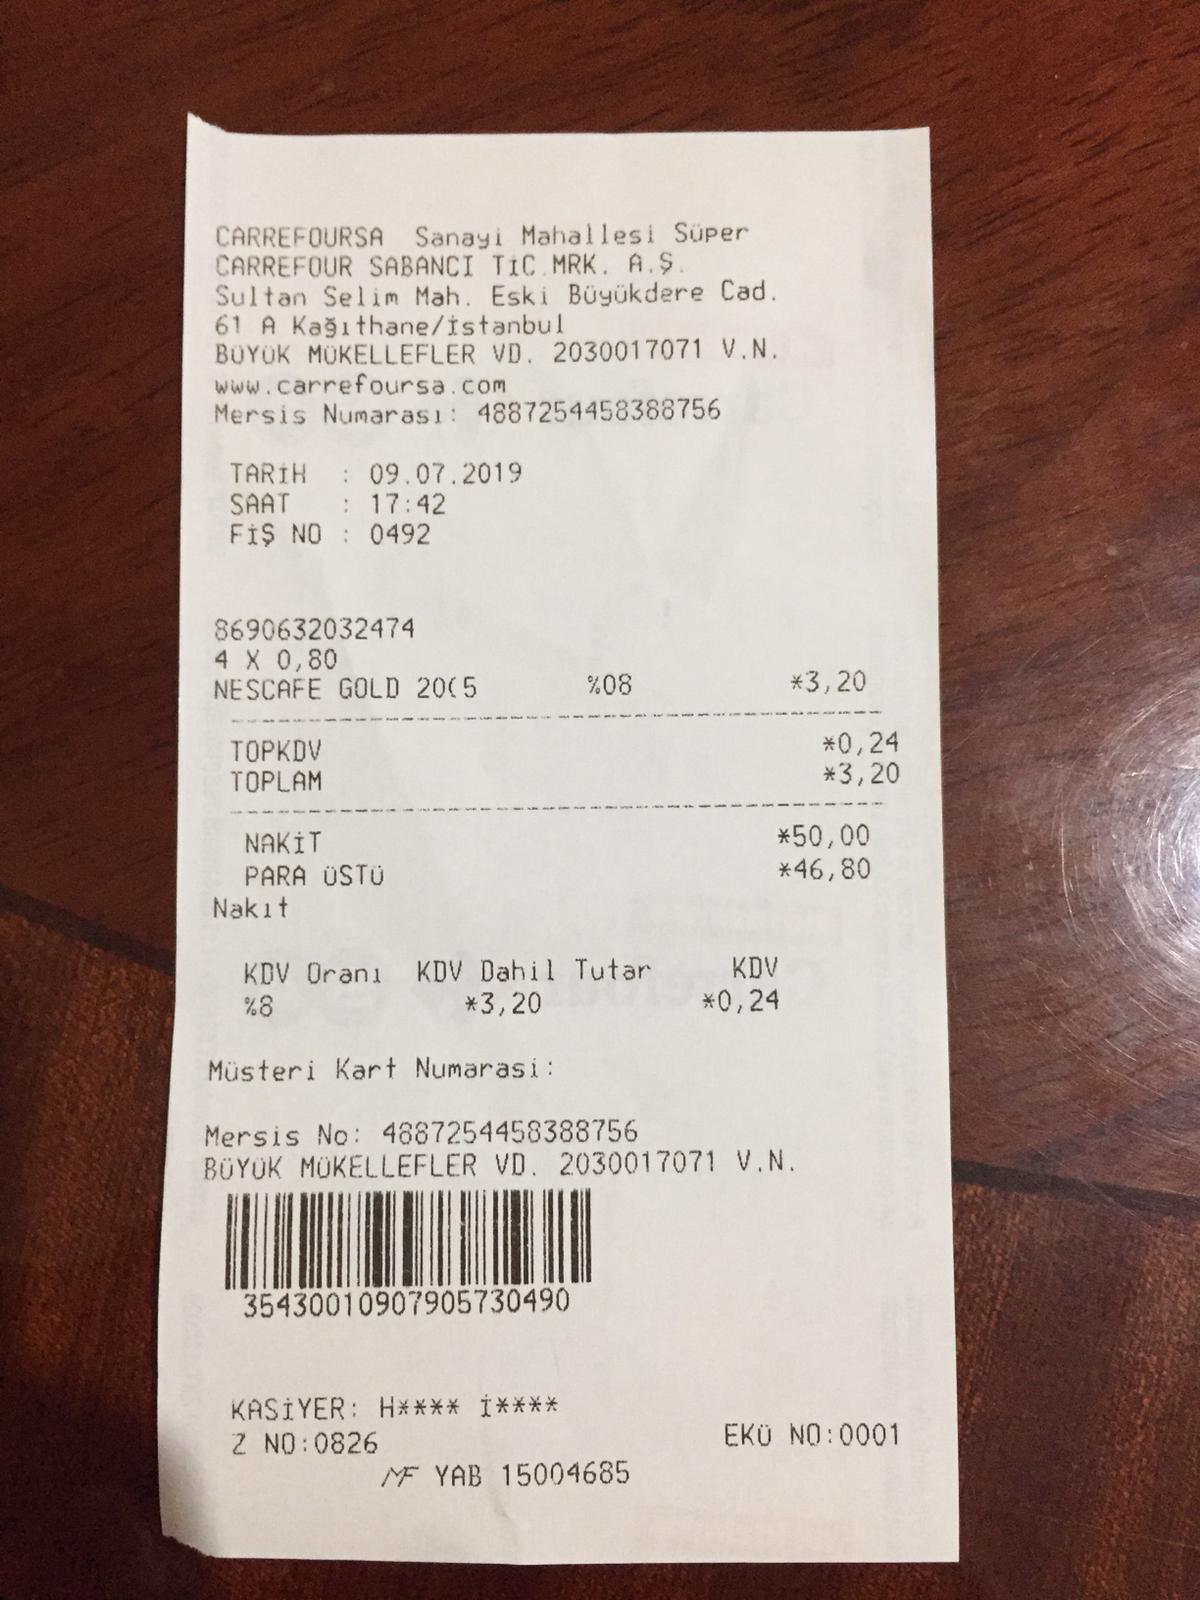total: (226, 755, 916, 803)
